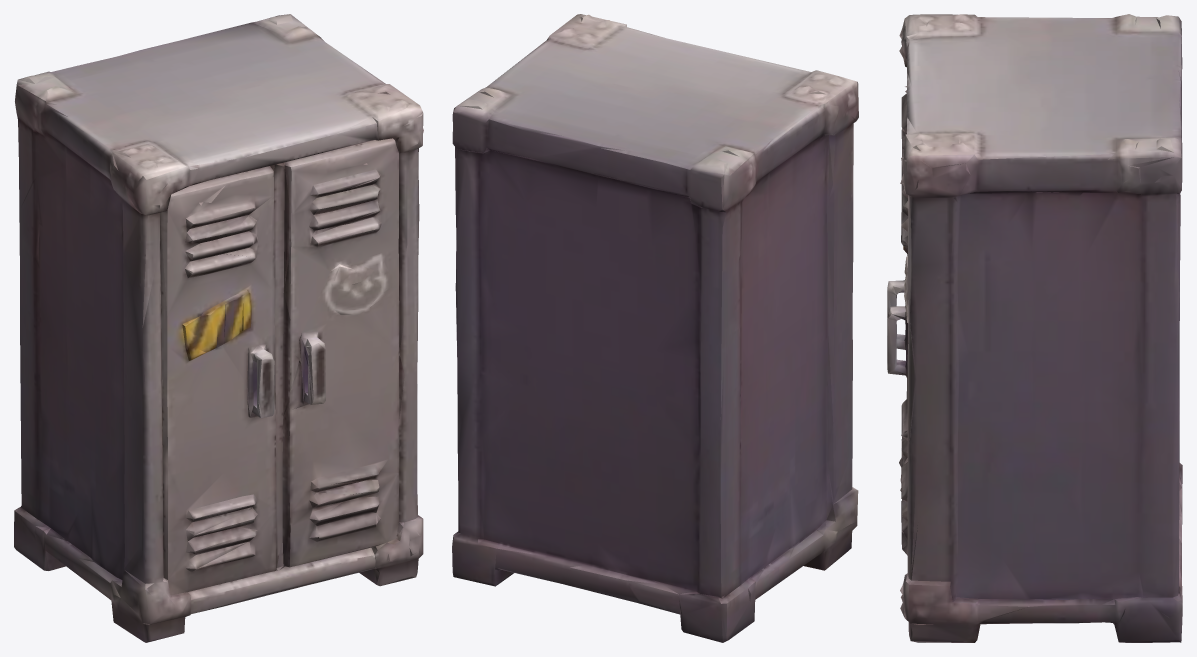
The model's file is cabinet22.glb.
The picture shows the model from 3 angles, left to right: view 1: azimuth 30°, elevation 25°; view 2: azimuth 150°, elevation 25°; view 3: azimuth 270°, elevation 25°; orthographic projection. The views are drawn at different scales.
Size of the model in its own units: 0.1741 by 0.2722 by 0.1472.
1 material, 1 textured.
